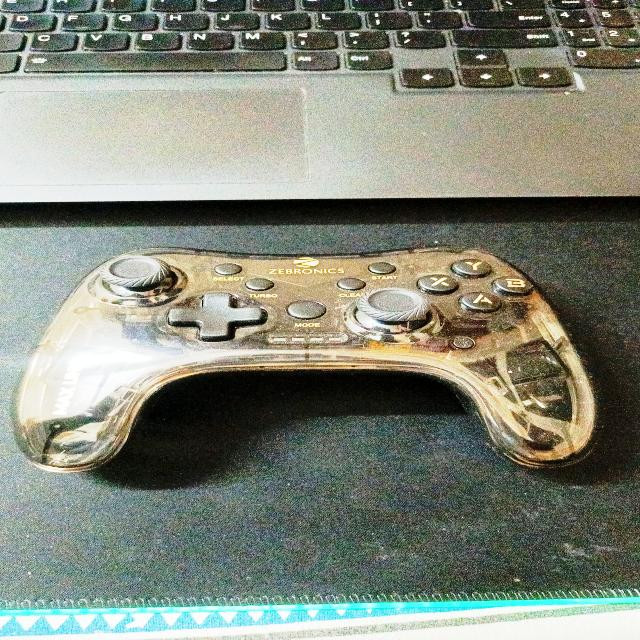gamepad: (13, 244, 599, 474)
